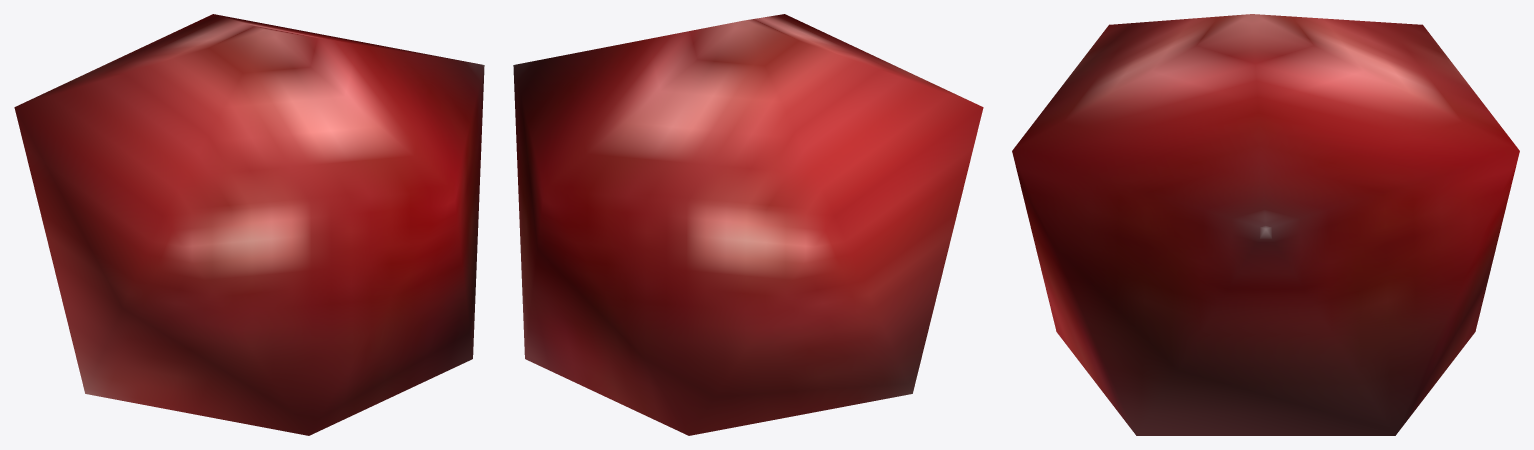
Rendered from food.apple.glb.
3 views of the same model, side by side, from view 1: azimuth 30°, elevation 25°; view 2: azimuth 150°, elevation 25°; view 3: azimuth 270°, elevation 25° (orthographic). The views are drawn at different scales.
Visible parts, largest first — view 1: manzana; view 2: manzana; view 3: manzana.
Boxes of the visible parts, bbox=[...] form: manzana: bbox=[14, 14, 484, 435]; manzana: bbox=[513, 14, 983, 435]; manzana: bbox=[1012, 14, 1519, 435].
Bounding box in the file's own units: 0.0957 × 0.09 × 0.0998.
Materials: 1 (1 with a texture image).
